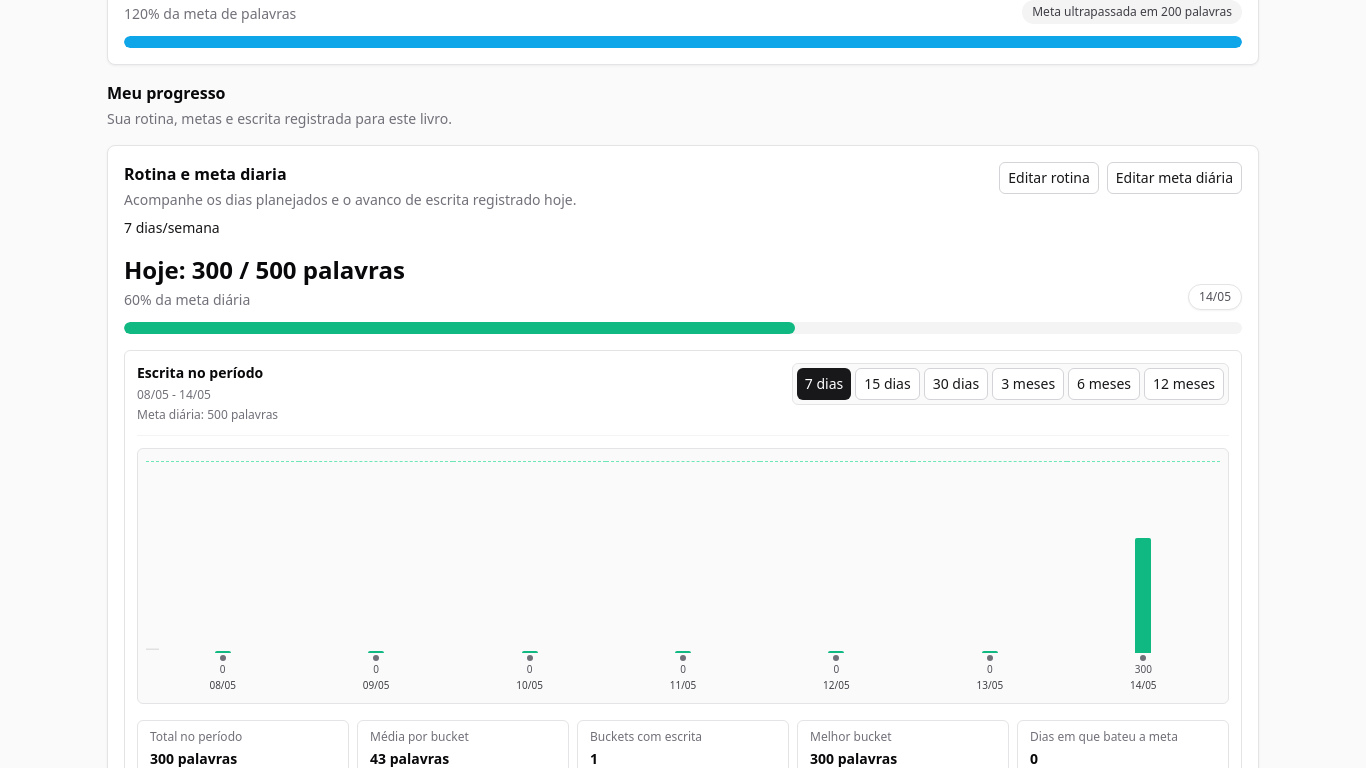
Test: BookDashboard › 3, 6 e 12 meses renderizam buckets mensais fixos
(page scrolled)
Click the button "3 meses": point(1028, 384) left=992, top=368, right=1064, bottom=400
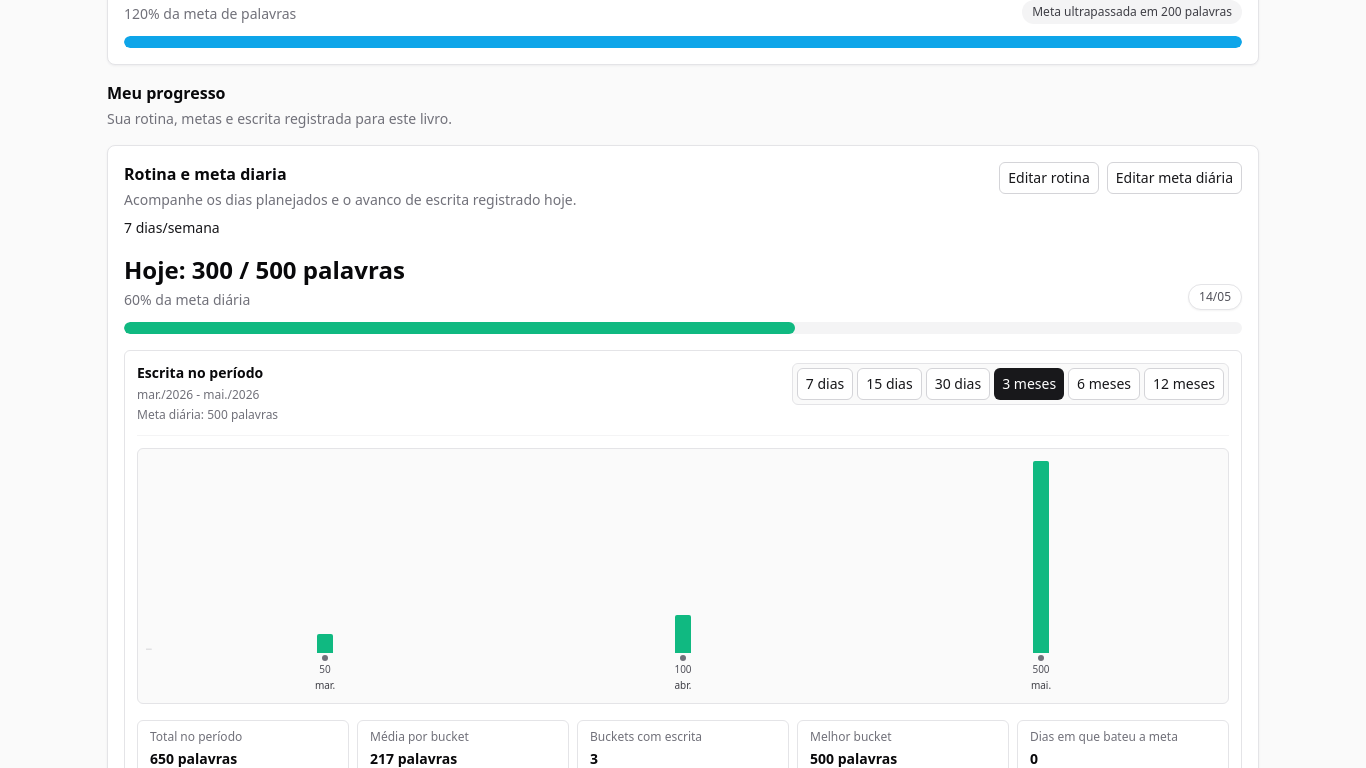
Expected: the text "mar./2026 - mai./2026" is shown, left=137, top=387, right=278, bottom=403
Expected: the number of elements with test id "daily-progress-bucket" is 3, left=315, top=634, right=335, bottom=692; left=674, top=615, right=692, bottom=692; left=1031, top=461, right=1051, bottom=692
Expected: the text "mar." is shown, left=315, top=679, right=335, bottom=693
Click the button "6 meses": point(1104, 384) left=1068, top=368, right=1140, bottom=400
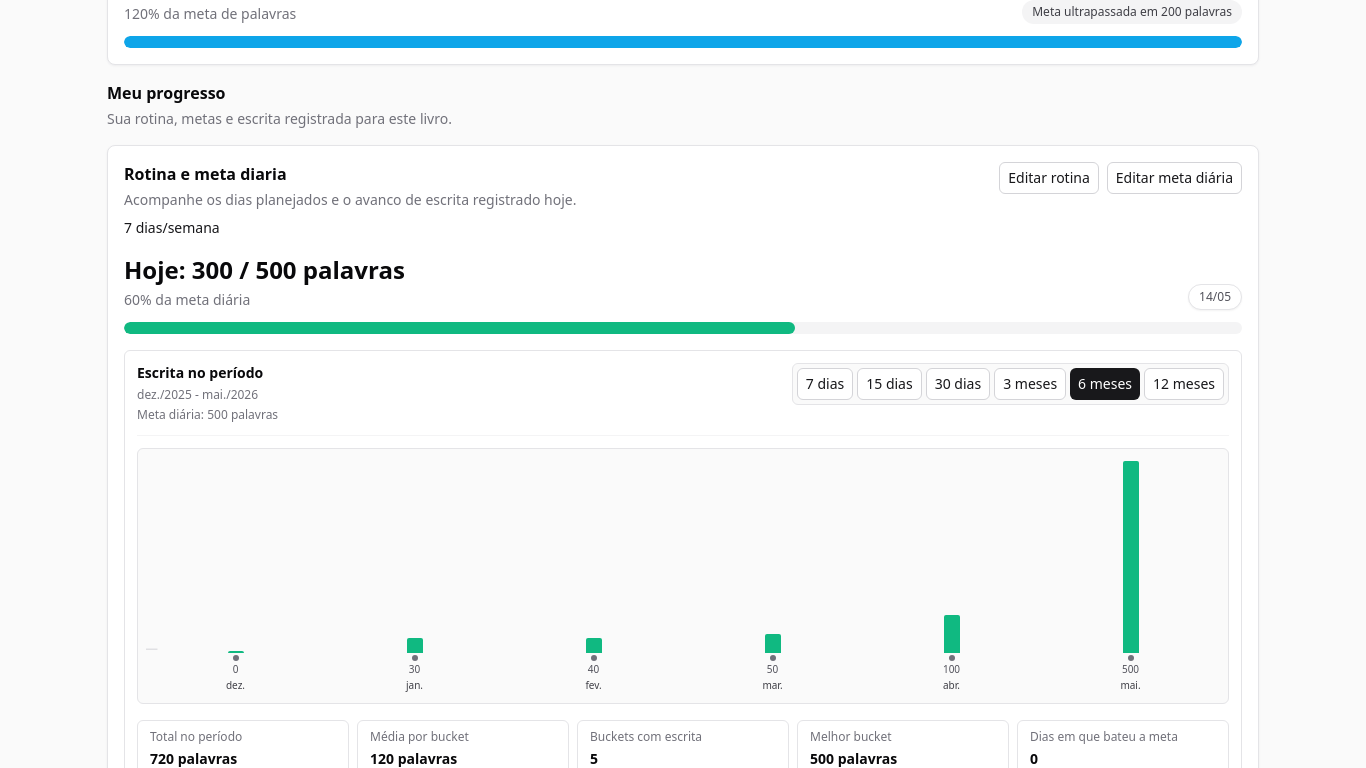
Expected: the text "dez./2025 - mai./2026" is shown, left=137, top=387, right=278, bottom=403
Expected: the number of elements with test id "daily-progress-bucket" is 6, left=226, top=651, right=245, bottom=692; left=406, top=638, right=423, bottom=692; left=585, top=638, right=602, bottom=692; left=762, top=634, right=783, bottom=692; left=943, top=615, right=960, bottom=692; left=1120, top=461, right=1141, bottom=692
Expected: the text "dez." is shown, left=226, top=679, right=245, bottom=693
Click the button "12 meses": point(1184, 384) left=1144, top=368, right=1224, bottom=400
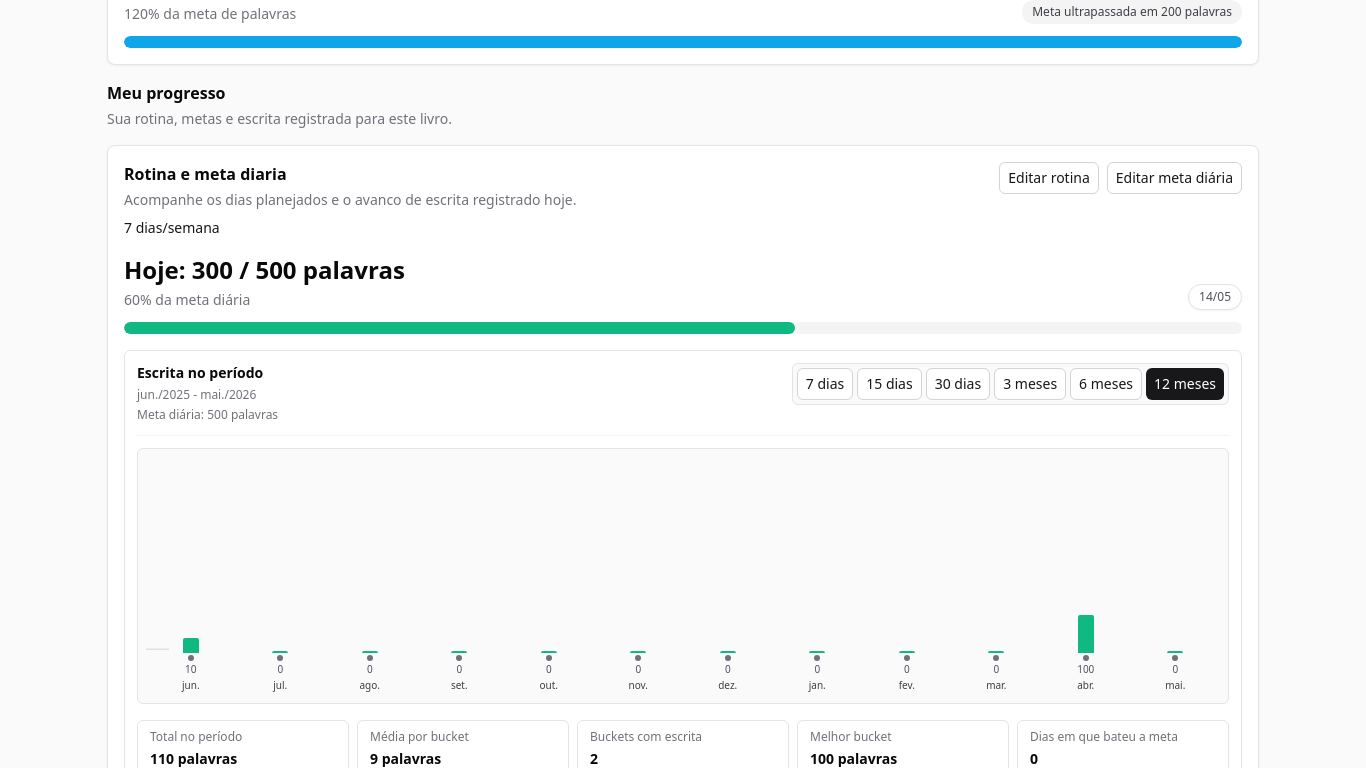
Expected: the text "jun./2025 - mai./2026" is shown, left=137, top=386, right=256, bottom=403
Expected: the number of elements with test id "daily-progress-bucket" is 12
Expected: the text "jun." is shown, left=182, top=679, right=200, bottom=693
